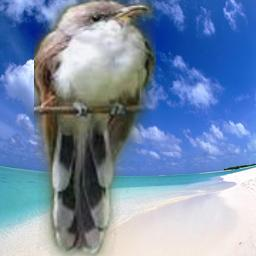Cuckoo: (34, 0, 156, 256)
